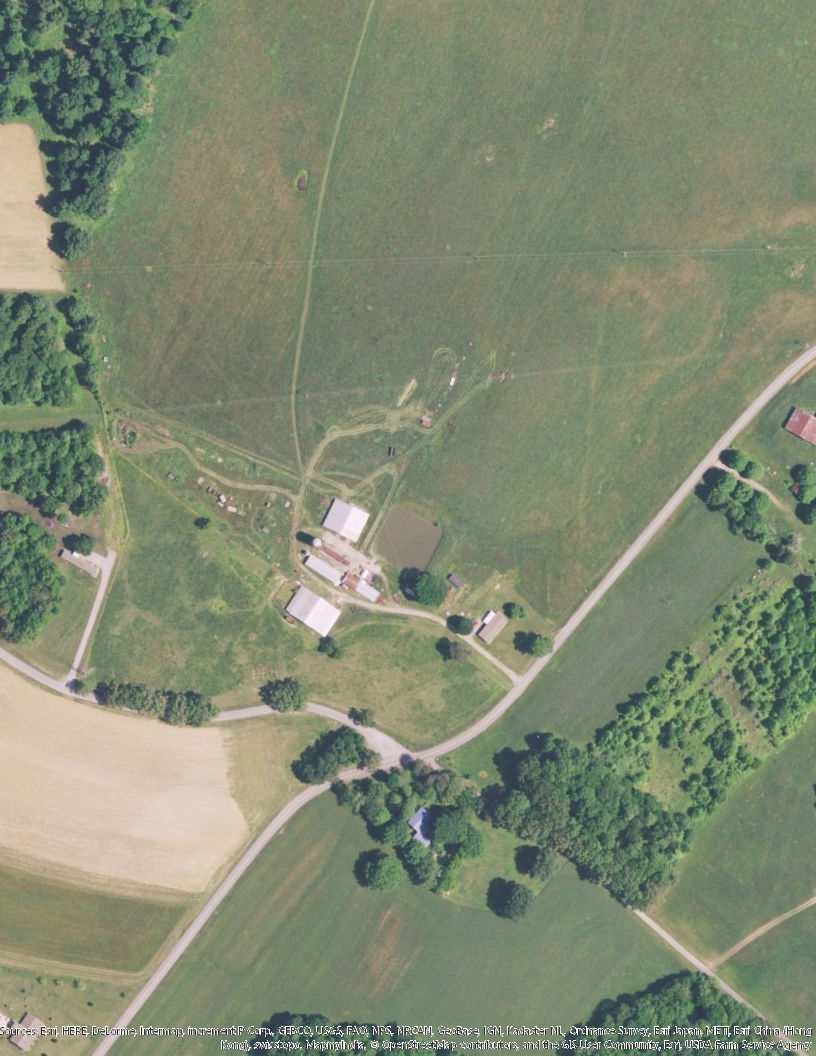cafo: (287, 584, 343, 639), (319, 495, 373, 541), (303, 551, 346, 585), (346, 574, 389, 601)
